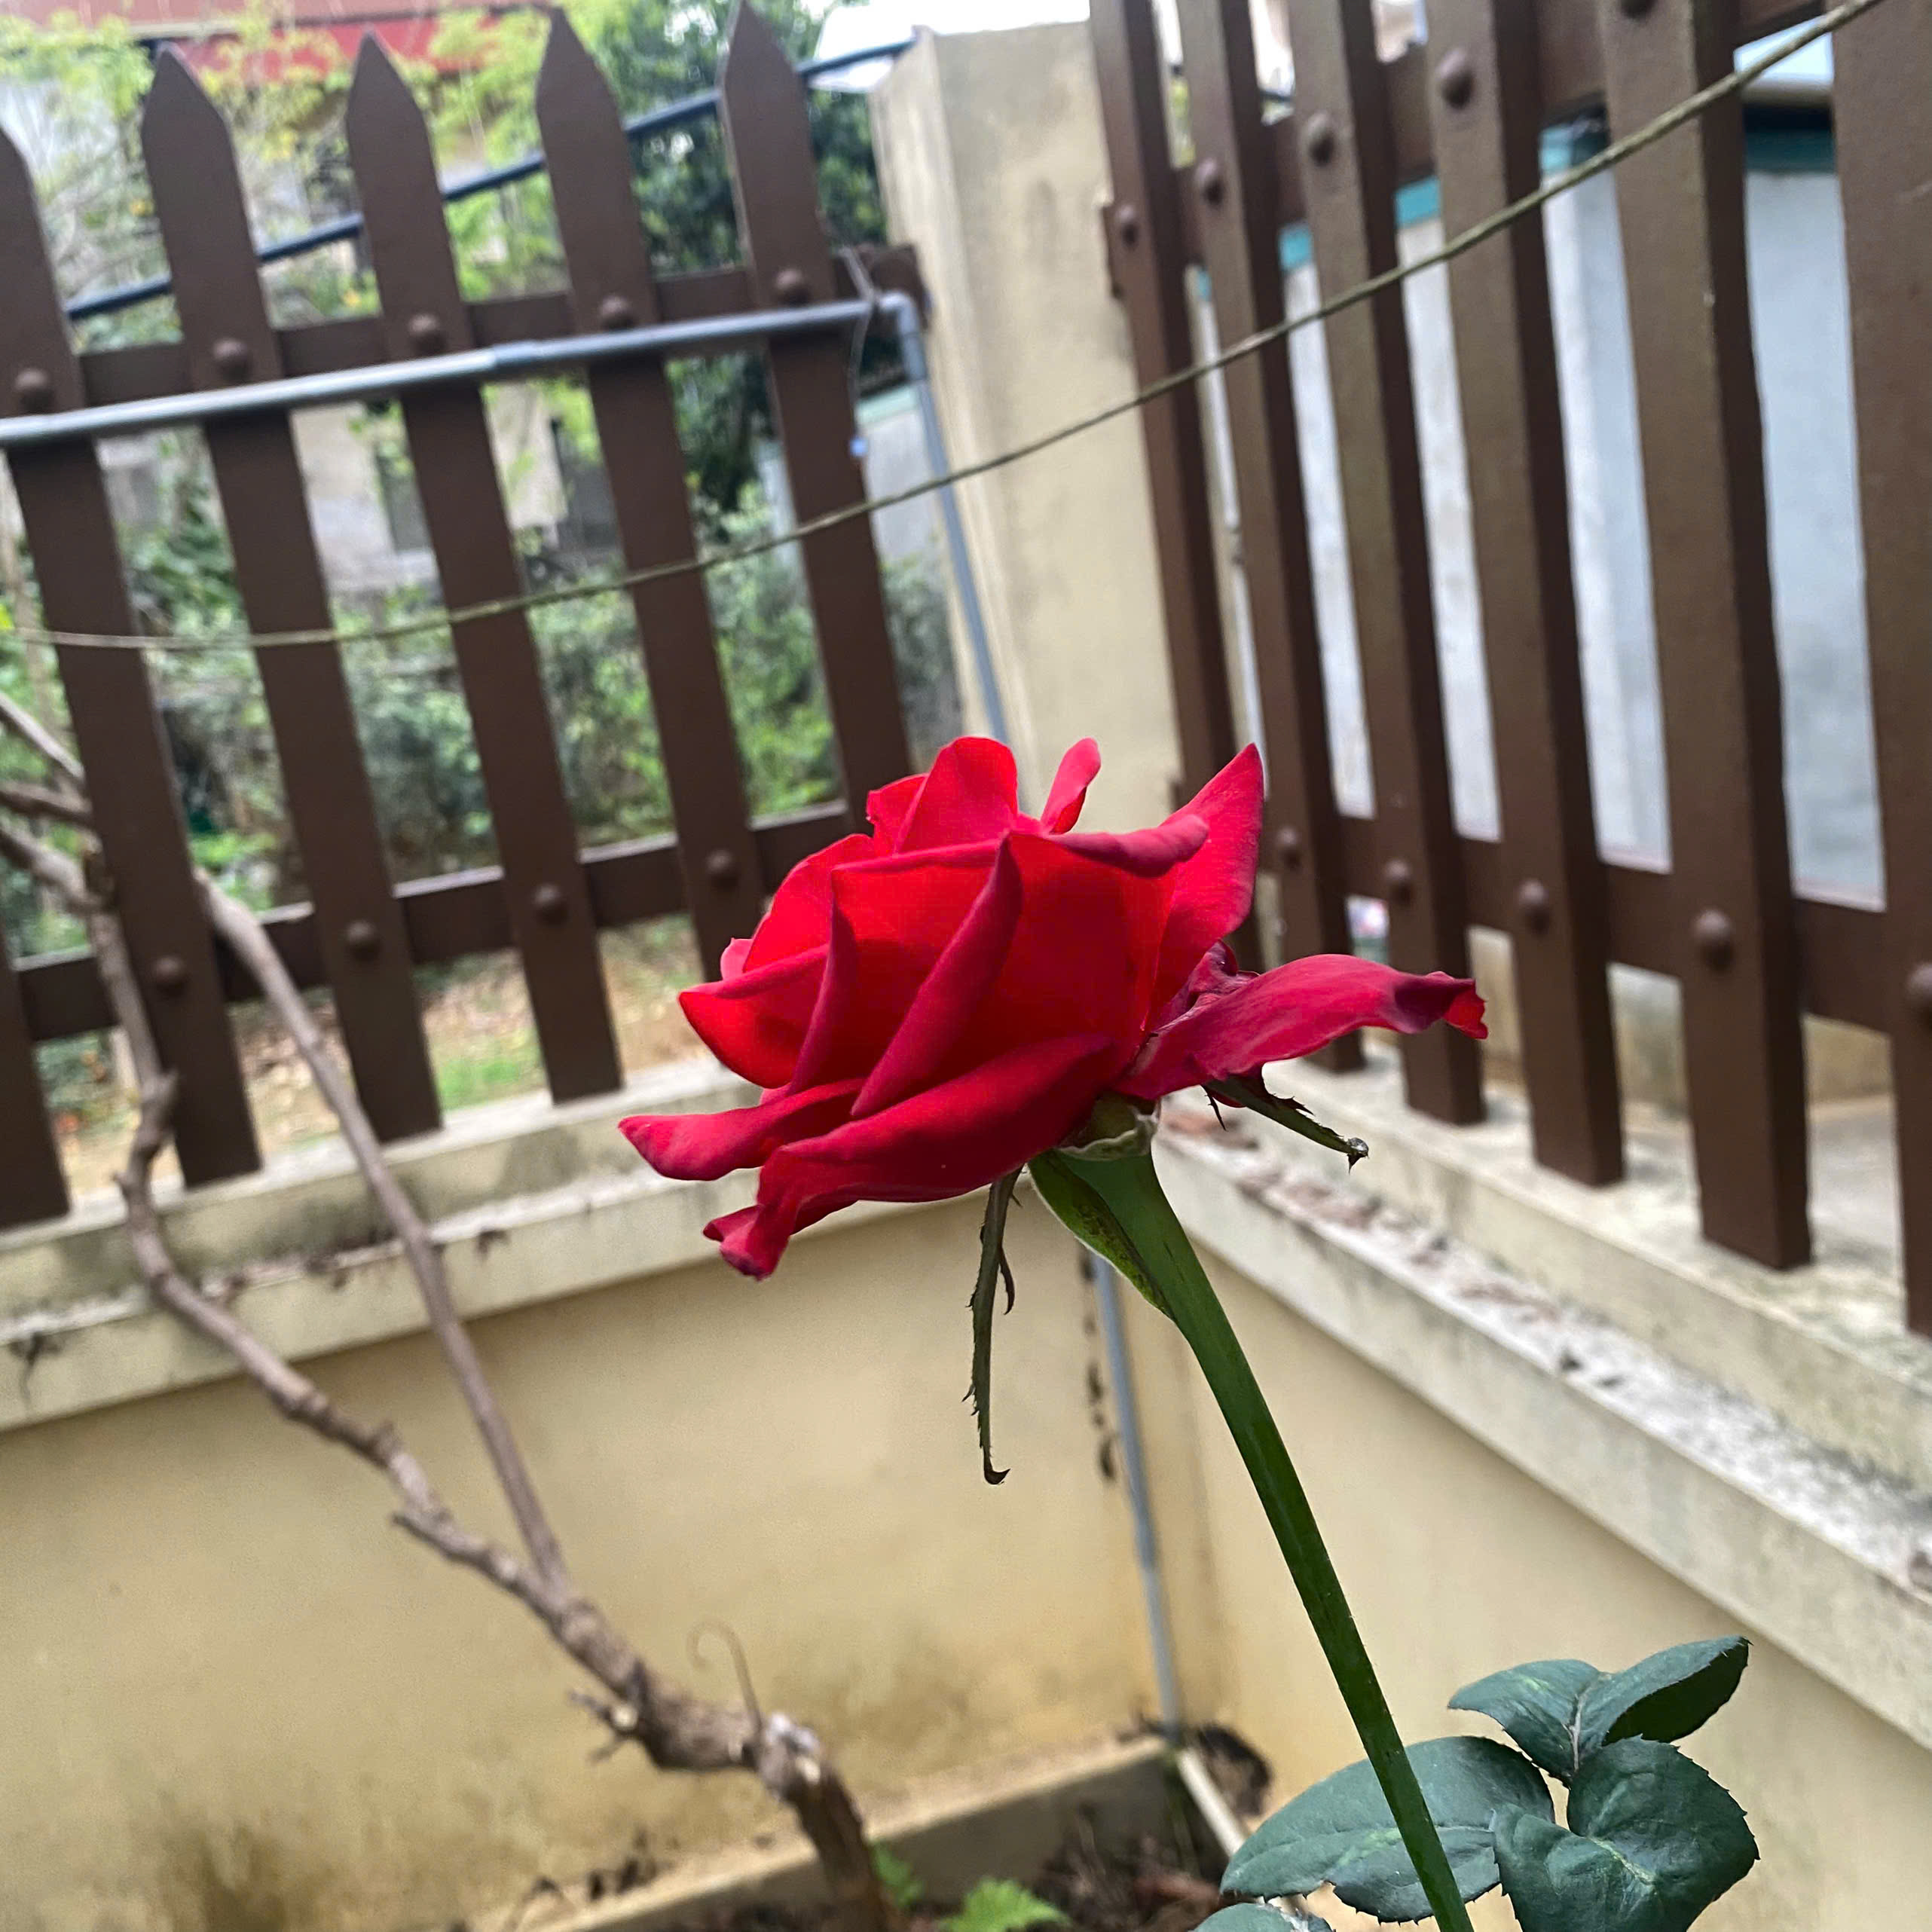hoa_hong_do: (575, 717, 1849, 1932)
